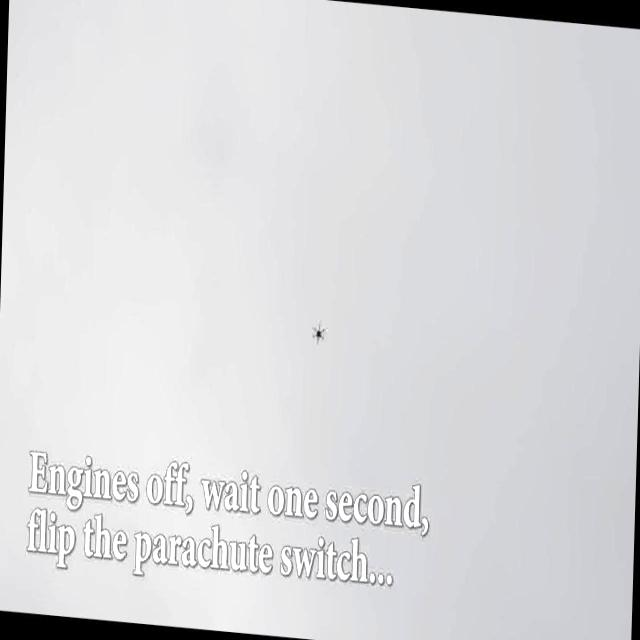drone: (310, 316, 328, 348)
